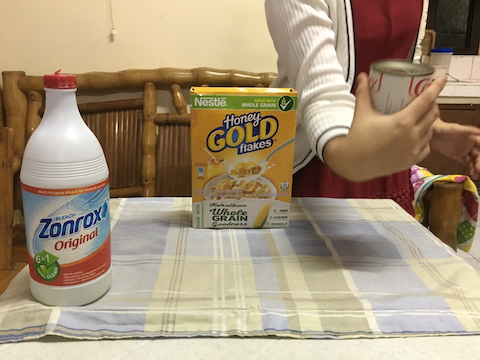bottle: (17, 68, 116, 308)
box: (188, 84, 301, 229)
can: (366, 57, 437, 120)
grab: (355, 74, 448, 179)
